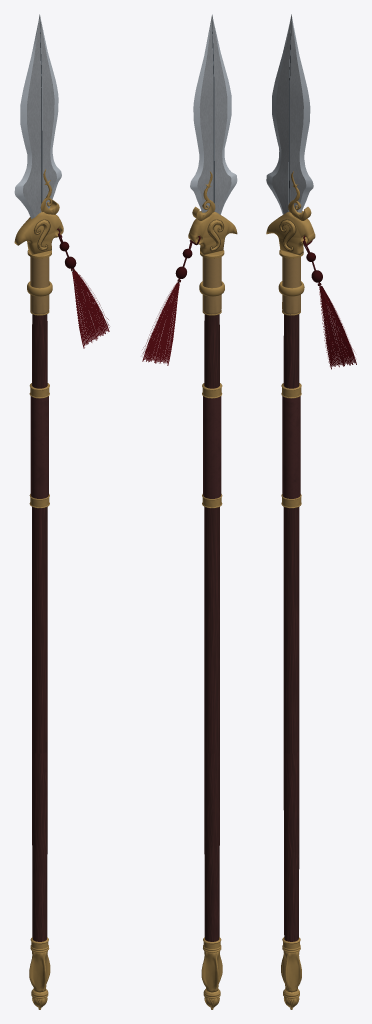
File: SM_ImperialSpear_LOD2.fbx
3 renders of one model, left to right at view 1: azimuth 30°, elevation 25°; view 2: azimuth 210°, elevation 25°; view 3: azimuth 330°, elevation 25°, orthographic.
Parts seen in each view (by area): view 1: SM_ImperialSpear_LOD2; view 2: SM_ImperialSpear_LOD2; view 3: SM_ImperialSpear_LOD2.
Boxes of the visible parts, x1,y1,x2,y2 form: SM_ImperialSpear_LOD2: (14,14,109,1009); SM_ImperialSpear_LOD2: (142,14,237,1009); SM_ImperialSpear_LOD2: (266,14,356,1009).
Size of the model in its own units: 0.2209 by 0.0527 by 2.23.
1 material, 1 textured.
